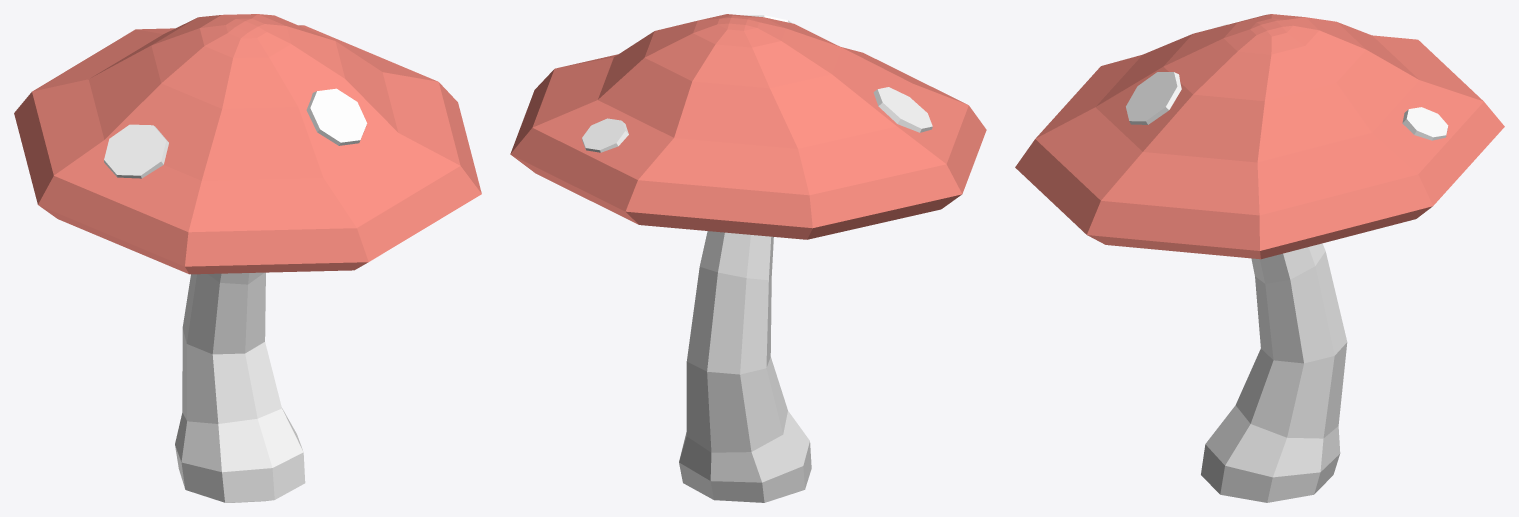
Rendered from mushroom-big.glb.
3 renders of one model, left to right at view 1: azimuth 30°, elevation 25°; view 2: azimuth 150°, elevation 25°; view 3: azimuth 270°, elevation 25°, orthographic.
Parts seen in each view (by area): view 1: node-0_primitive0, node-0_primitive1; view 2: node-0_primitive0, node-0_primitive1; view 3: node-0_primitive0, node-0_primitive1.
Part boxes in pixels (left/top/right/bottom): node-0_primitive0: left=14, top=14, right=481, bottom=274; node-0_primitive1: left=104, top=88, right=367, bottom=502; node-0_primitive0: left=510, top=14, right=986, bottom=239; node-0_primitive1: left=582, top=15, right=932, bottom=502; node-0_primitive0: left=1015, top=14, right=1504, bottom=259; node-0_primitive1: left=1126, top=19, right=1448, bottom=502.
Size of the model in its own units: 95.87 by 99.75 by 95.47.
